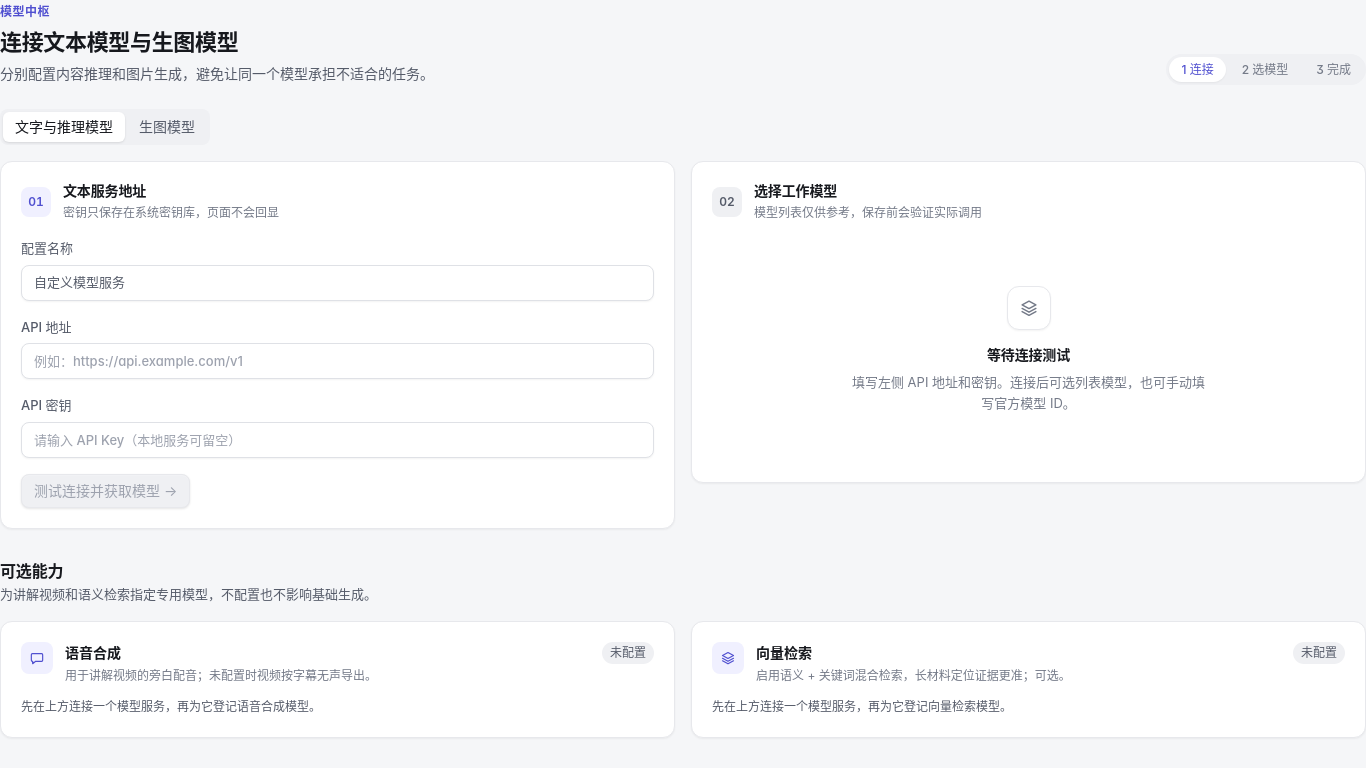
Scenario: failed text model probe does not save a provider
Type "https://open.bigmodel.cn/api/paas/v4" into the field labelled "API 地址" at {"x": 338, "y": 361}, box [21,343,654,379]
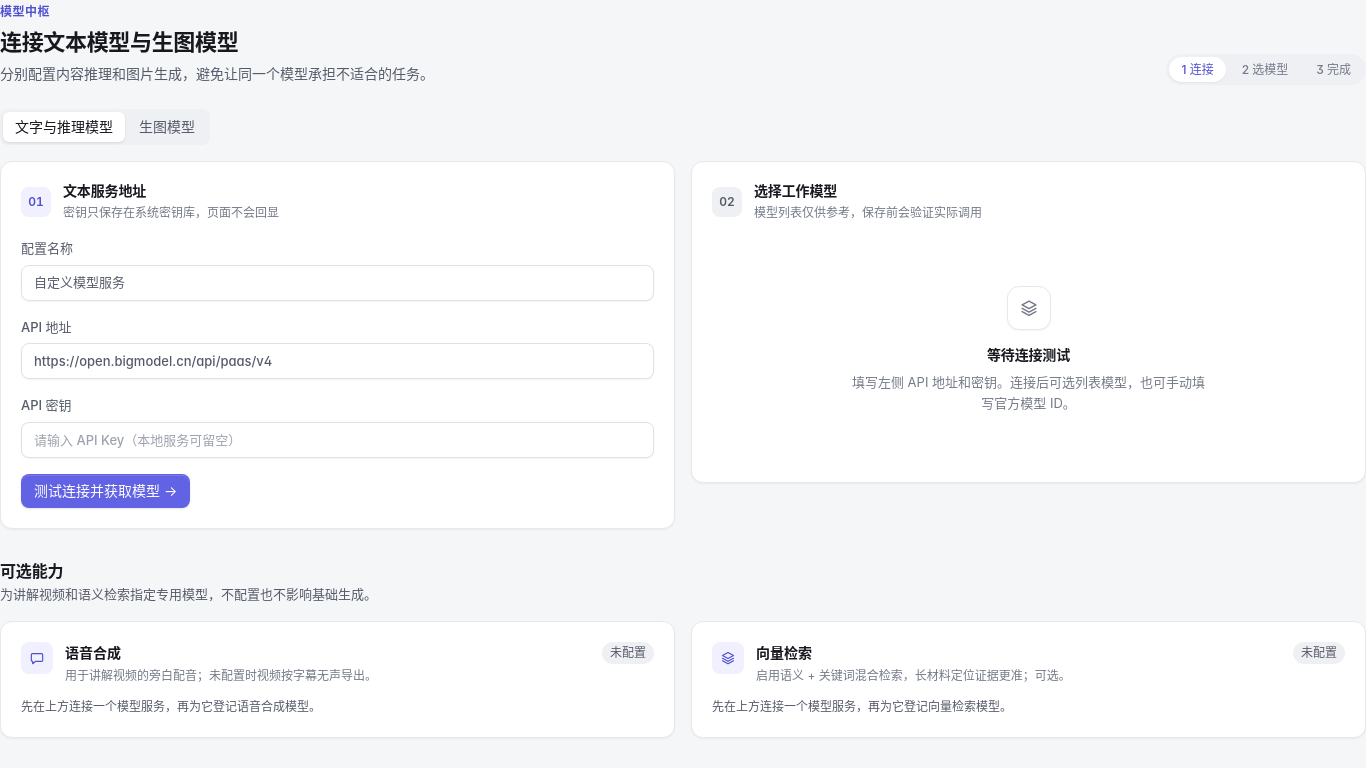
Click the button "测试连接并获取模型 →" at {"x": 106, "y": 491}, box [21,474,190,508]
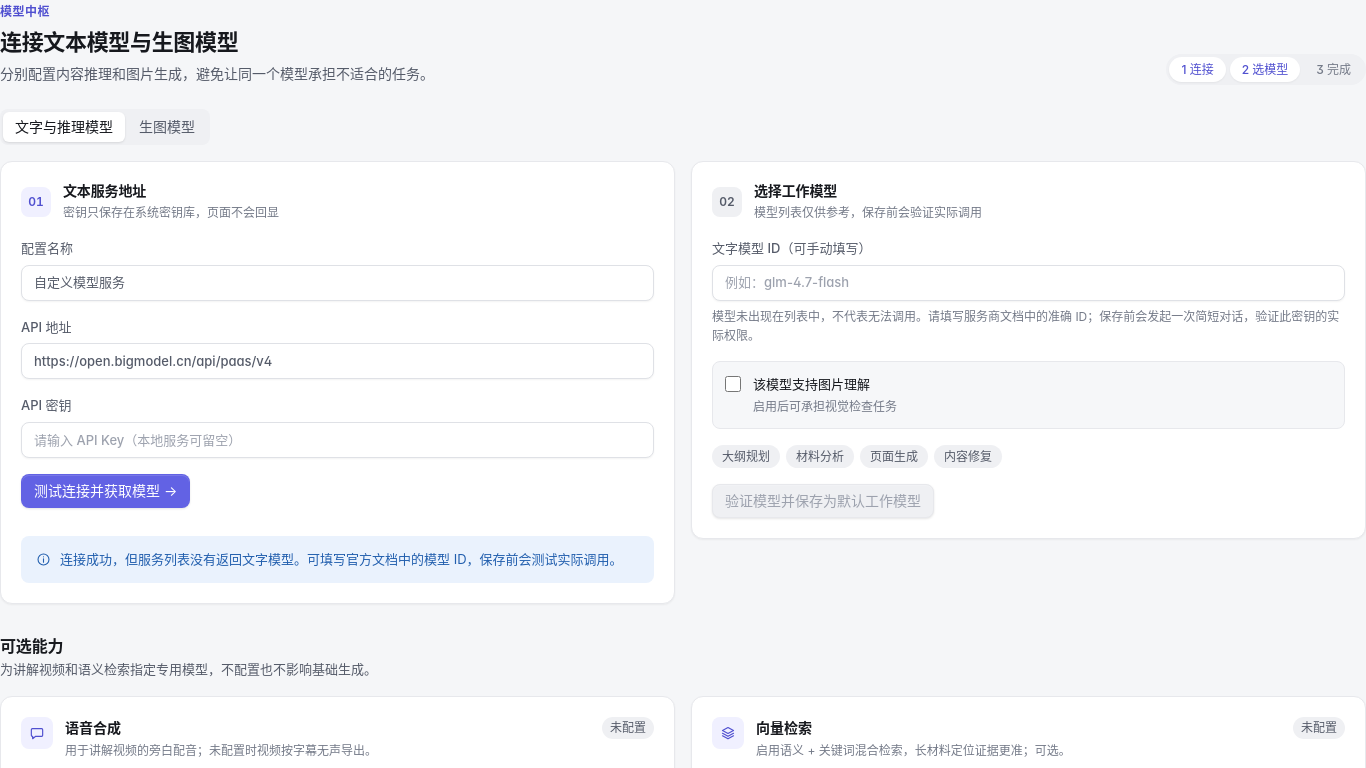
Type "glm-4.7-flash" into the field with placeholder "例如：glm-4.7-flash" at {"x": 1028, "y": 282}, box [712,264,1345,300]
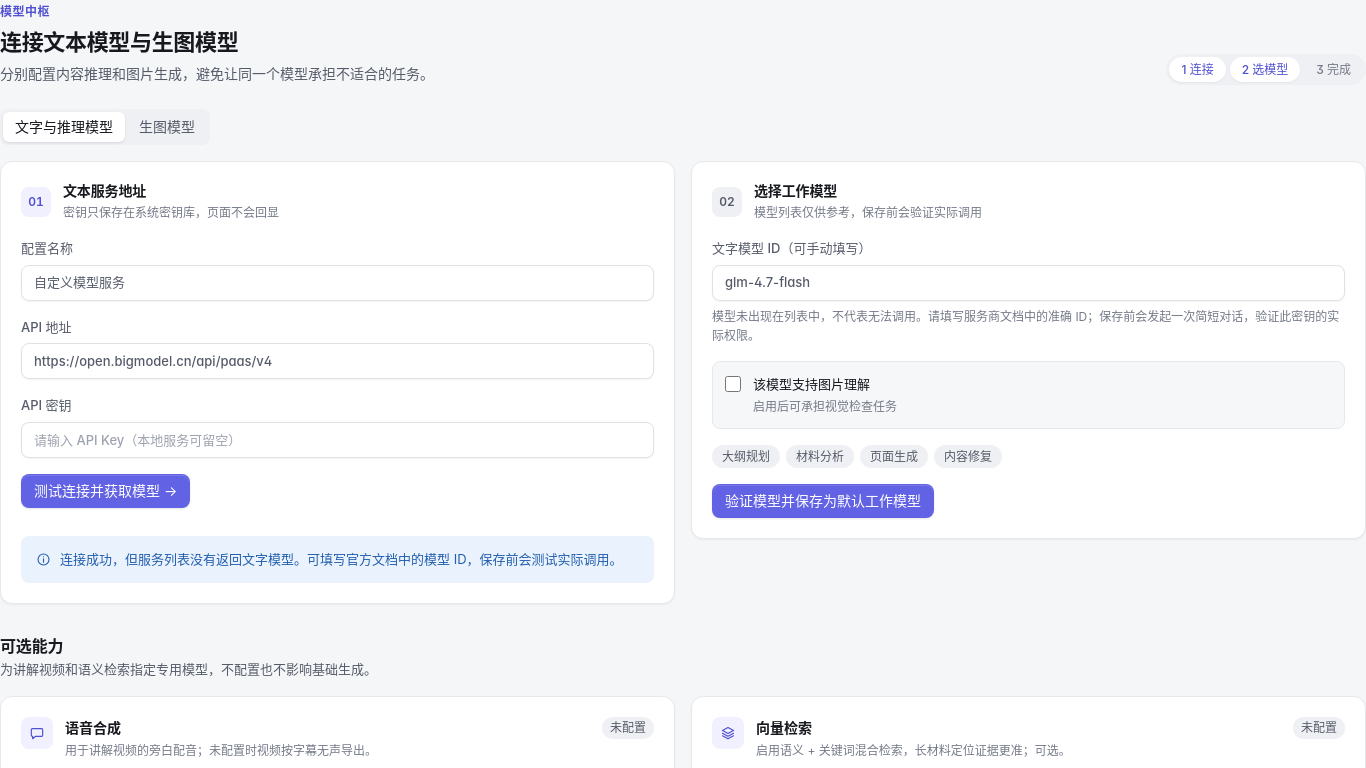
Click the button "验证模型并保存为默认工作模型" at {"x": 823, "y": 501}, box [712,484,934,518]
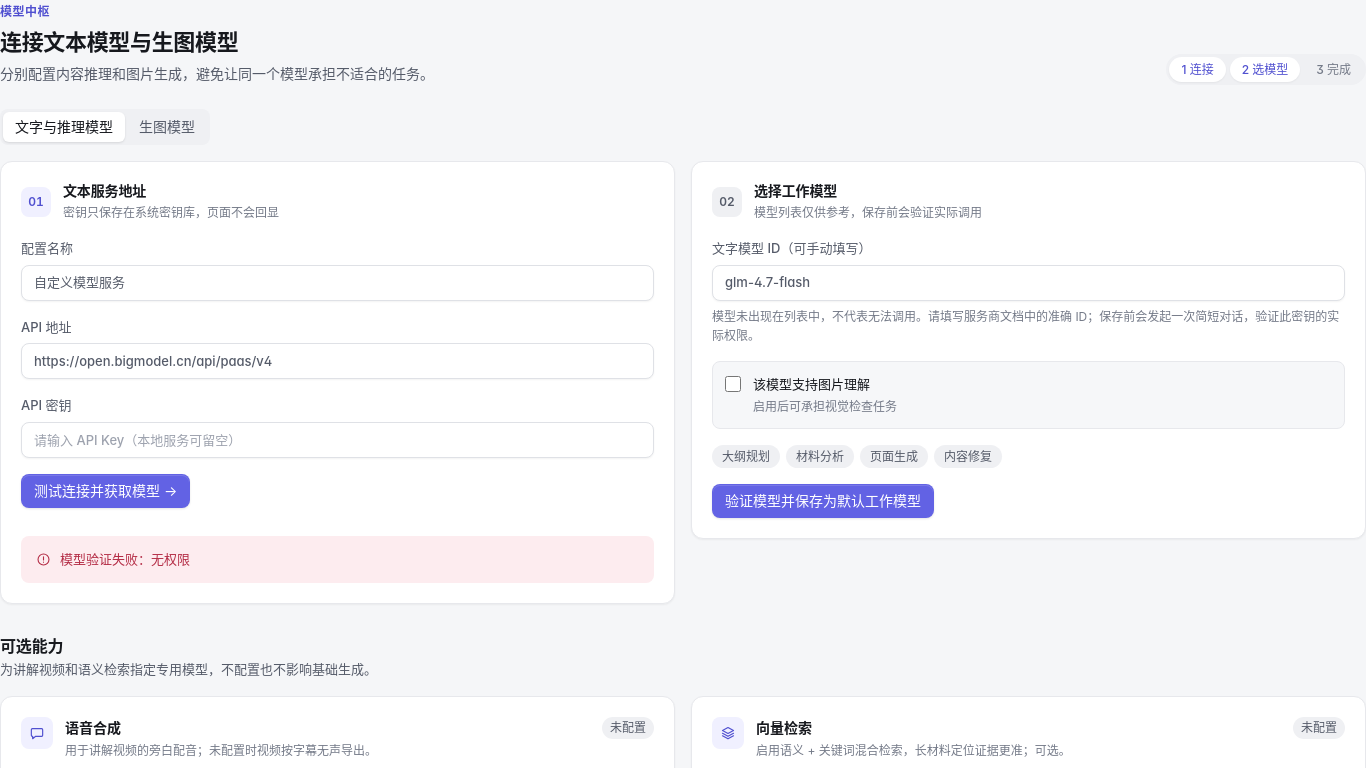
Result: the text "模型验证失败：无权限" is shown at [60,549,190,570]
